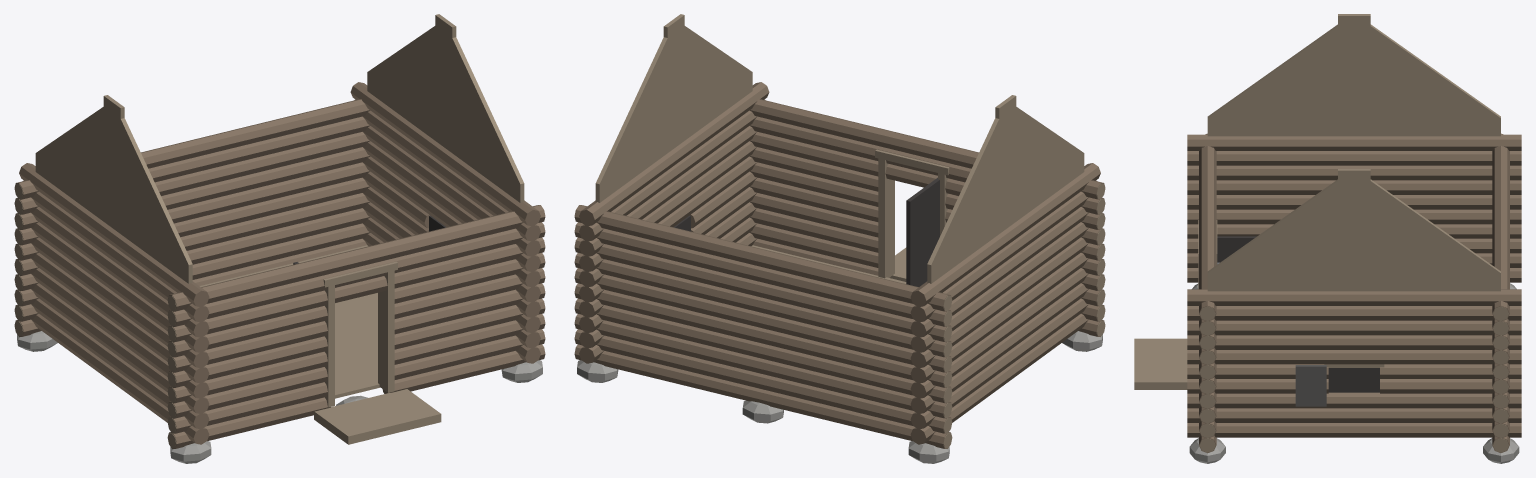
Rendered from IzbaWallsC.fbx.
The picture shows the model from 3 angles, left to right: view 1: azimuth 30°, elevation 25°; view 2: azimuth 150°, elevation 25°; view 3: azimuth 270°, elevation 25°; orthographic projection. The views are drawn at different scales.
Visible parts, largest first — view 1: IzbaWallsC; view 2: IzbaWallsC; view 3: IzbaWallsC.
Part boxes in pixels (bbox=[...]): IzbaWallsC: bbox=[14, 14, 545, 463]; IzbaWallsC: bbox=[574, 14, 1105, 463]; IzbaWallsC: bbox=[1134, 14, 1521, 463].
Size of the model in its own units: 559 by 437 by 528.
